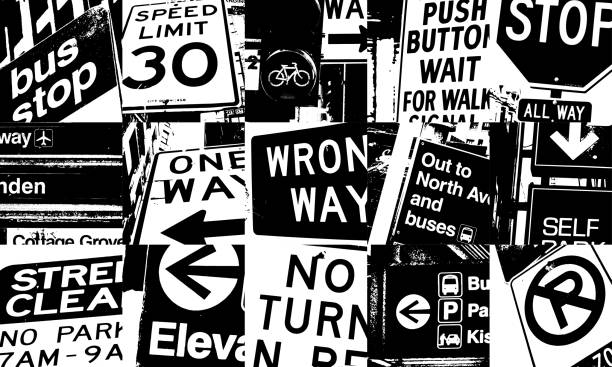SpeedLimitSign: (119, 0, 243, 114)
StopSign: (495, 0, 611, 92)
